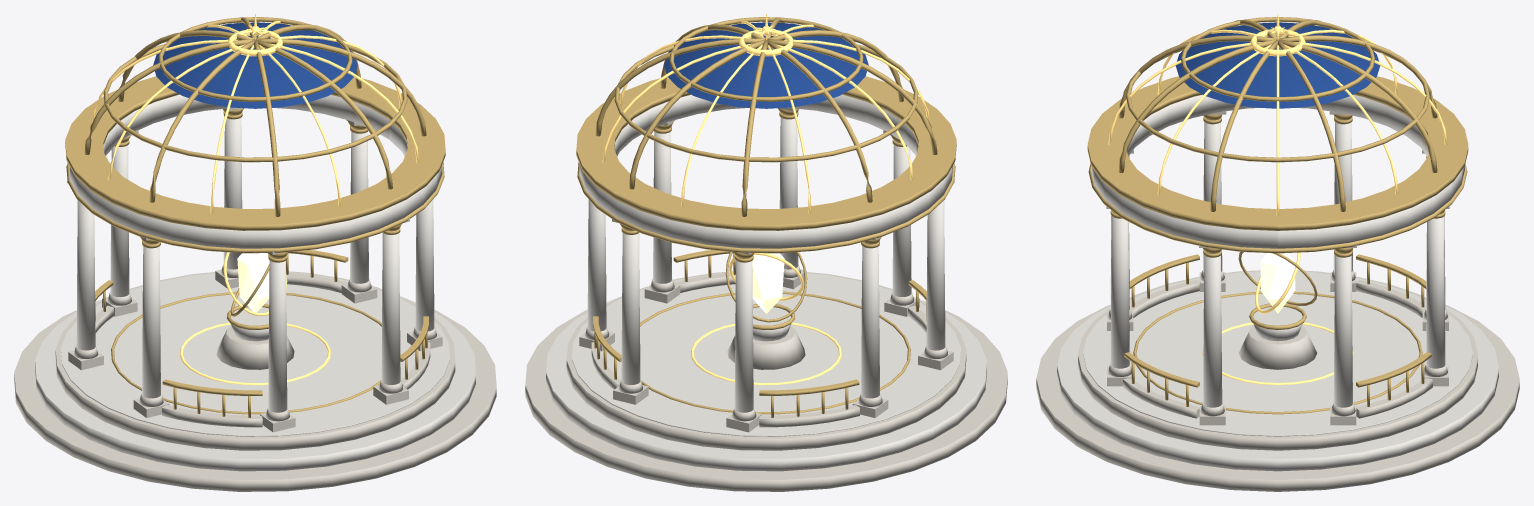
The model's file is mira_sanctuary.glb.
3 renders of one model, left to right at view 1: azimuth 30°, elevation 25°; view 2: azimuth 150°, elevation 25°; view 3: azimuth 270°, elevation 25°, orthographic.
Visible parts, largest first — view 1: MiraSanctuary; view 2: MiraSanctuary; view 3: MiraSanctuary.
Boxes of the visible parts, bbox=[...] form: MiraSanctuary: bbox=[14, 14, 496, 491]; MiraSanctuary: bbox=[525, 14, 1007, 491]; MiraSanctuary: bbox=[1036, 14, 1519, 491].
Size of the model in its own units: 11.6 by 9.96 by 11.6.
